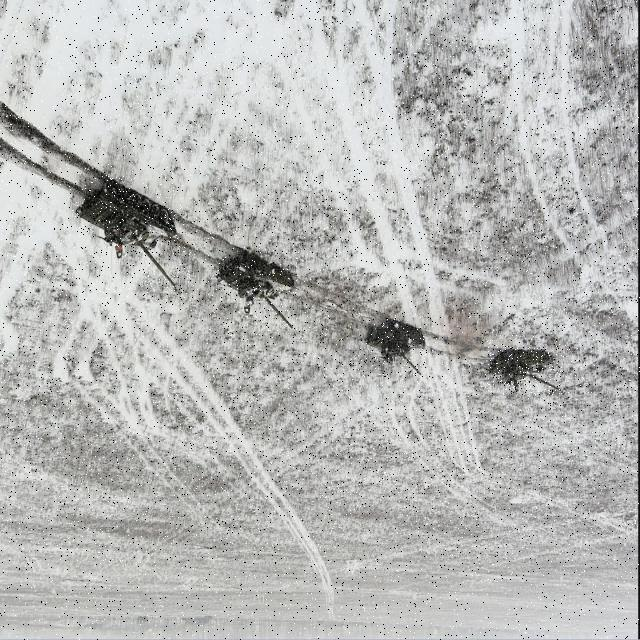MIL_MBT: (74, 177, 185, 295), (215, 248, 297, 331), (360, 315, 430, 376), (485, 345, 563, 395)
